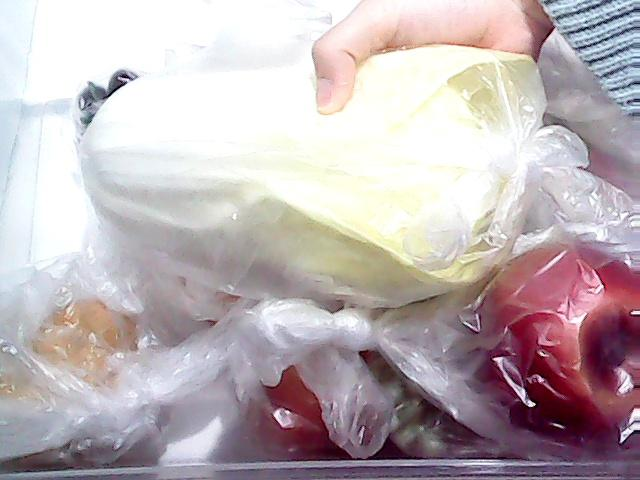apple: (466, 222, 640, 442)
carrot: (554, 118, 640, 212)
grape: (382, 390, 482, 472), (60, 65, 146, 115)
napa cabbage: (75, 22, 541, 308)
peach: (241, 294, 399, 460)
potato: (0, 296, 144, 468)
